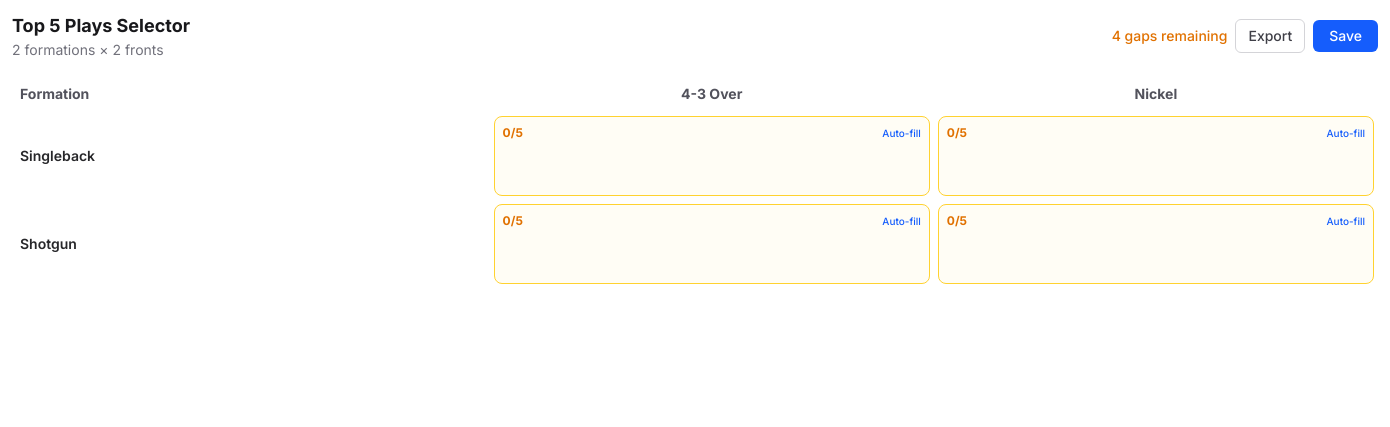
Test case: TopPlaysSelector › shows no-available-plays message for formations with no plays
This screenshot has width=1390, height=427.
Click the button with test id "cell-f1-fr1" at (507, 132), box [494, 116, 930, 196]
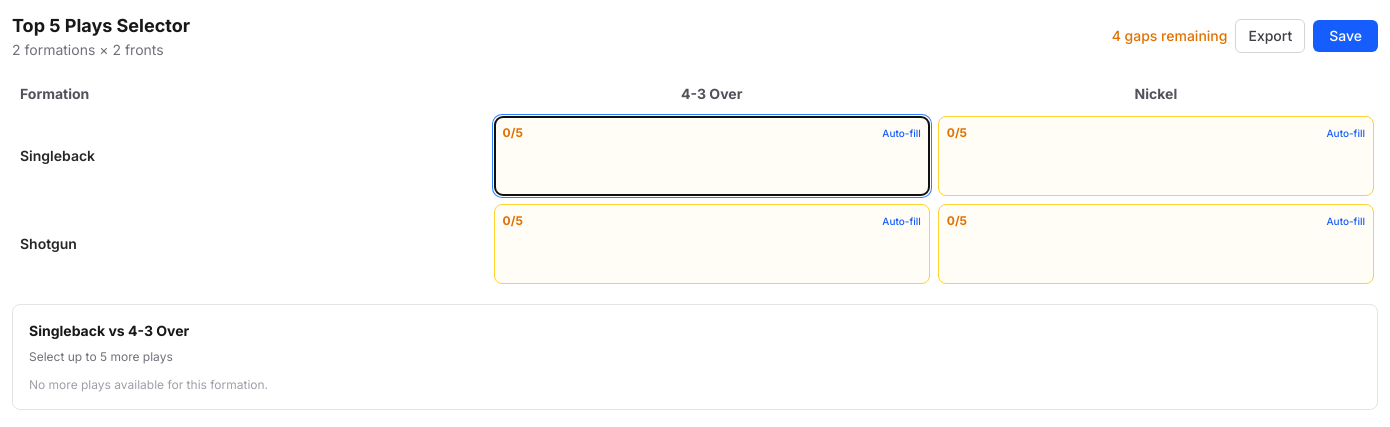
Expected: the text "No more plays available for this formation." is shown, [29, 377, 268, 392]
